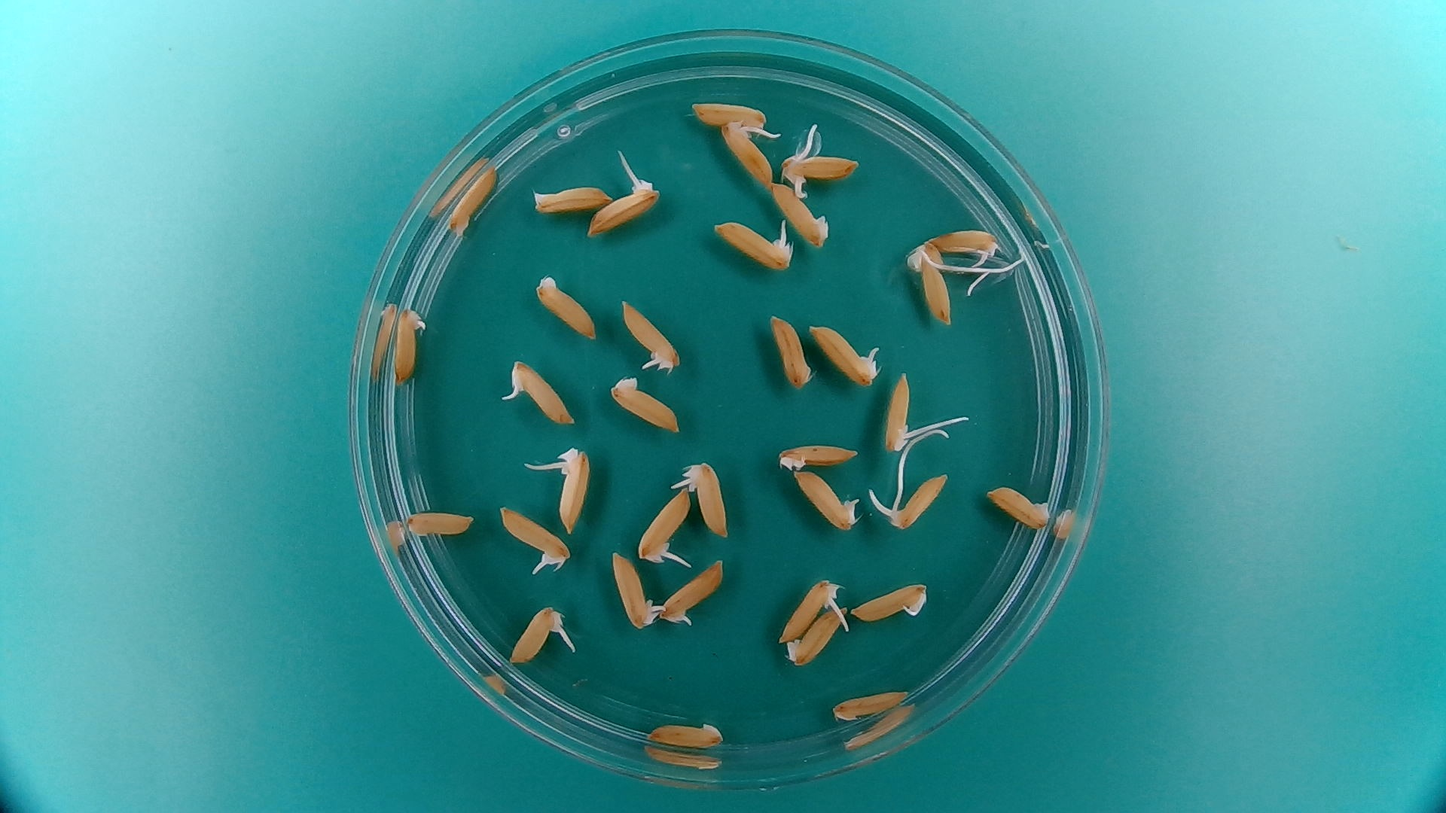no: (531, 270, 601, 343), (764, 177, 834, 248), (606, 371, 683, 434), (764, 306, 816, 393), (782, 604, 850, 668), (444, 160, 500, 236), (847, 577, 931, 623), (982, 480, 1054, 529), (528, 177, 614, 217), (773, 434, 864, 471), (829, 684, 911, 725), (686, 97, 776, 133), (389, 303, 429, 383), (641, 716, 727, 751), (401, 504, 479, 538)
yes: (495, 501, 572, 574), (804, 325, 885, 390), (618, 294, 683, 374), (660, 556, 728, 629), (789, 467, 862, 534), (634, 483, 694, 564), (582, 177, 660, 238), (507, 362, 580, 425), (711, 217, 796, 271), (776, 571, 838, 643), (609, 550, 661, 632), (717, 120, 776, 186), (684, 461, 733, 540), (910, 249, 956, 333), (888, 470, 949, 529), (505, 604, 563, 666), (555, 448, 594, 537), (779, 150, 856, 187), (881, 370, 913, 455), (922, 224, 1001, 257)
